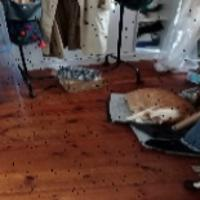asleep: (125, 86, 195, 127)
